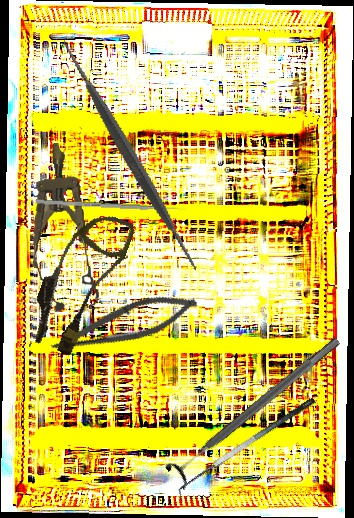Cannula: (22, 201, 137, 362)
Fixation Ring: (163, 328, 349, 491)
Micro Scissor: (46, 280, 202, 371)
Pusher: (35, 199, 187, 212)
Spatula Surgical: (1, 27, 259, 284), (171, 396, 323, 503)
Speculum: (22, 140, 104, 314)
